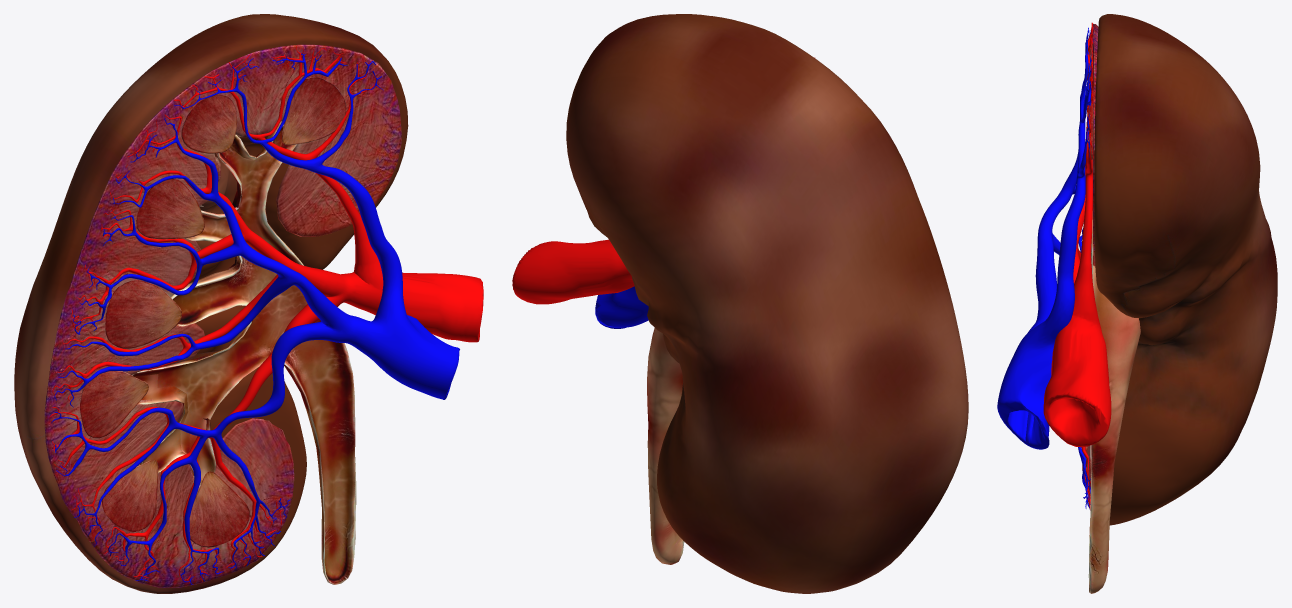
The model's file is kidneys.glb.
The picture shows the model from 3 angles, left to right: view 1: azimuth 30°, elevation 25°; view 2: azimuth 150°, elevation 25°; view 3: azimuth 270°, elevation 25°; orthographic projection. The views are drawn at different scales.
Visible parts, largest first — view 1: Maya_2018:Cortex_Maya_2018:Cortex_Diffuse_0, Maya_2018:Capsule_Maya_2018:Capsule2_0, Maya_2018:Ureter_Maya_2018:Renal___Ureter_Diffuse_0, Maya_2018:BLUE_Maya_2018:blue_0, Maya_2018:Medulla pyramid_Maya_2018:03 - Default_0, Maya_2018:RED_Maya_2018:red_0; view 2: Maya_2018:Capsule_Maya_2018:Capsule2_0, Maya_2018:RED_Maya_2018:red_0, Maya_2018:Ureter_Maya_2018:Renal___Ureter_Diffuse_0, Maya_2018:BLUE_Maya_2018:blue_0; view 3: Maya_2018:Capsule_Maya_2018:Capsule2_0, Maya_2018:BLUE_Maya_2018:blue_0, Maya_2018:RED_Maya_2018:red_0, Maya_2018:Ureter_Maya_2018:Renal___Ureter_Diffuse_0, Maya_2018:Cortex_Maya_2018:Cortex_Diffuse_0.
Boxes of the visible parts, x1=… form: Maya_2018:Cortex_Maya_2018:Cortex_Diffuse_0: x1=44, y1=44, x2=401, y2=587; Maya_2018:Capsule_Maya_2018:Capsule2_0: x1=14, y1=14, x2=408, y2=593; Maya_2018:Ureter_Maya_2018:Renal___Ureter_Diffuse_0: x1=132, y1=121, x2=356, y2=584; Maya_2018:BLUE_Maya_2018:blue_0: x1=51, y1=53, x2=459, y2=584; Maya_2018:Medulla pyramid_Maya_2018:03 - Default_0: x1=80, y1=76, x2=346, y2=547; Maya_2018:RED_Maya_2018:red_0: x1=49, y1=46, x2=483, y2=583; Maya_2018:Capsule_Maya_2018:Capsule2_0: x1=566, y1=14, x2=968, y2=593; Maya_2018:RED_Maya_2018:red_0: x1=512, y1=57, x2=814, y2=304; Maya_2018:Ureter_Maya_2018:Renal___Ureter_Diffuse_0: x1=647, y1=328, x2=684, y2=564; Maya_2018:BLUE_Maya_2018:blue_0: x1=595, y1=286, x2=648, y2=328; Maya_2018:Capsule_Maya_2018:Capsule2_0: x1=1094, y1=14, x2=1277, y2=525; Maya_2018:BLUE_Maya_2018:blue_0: x1=997, y1=27, x2=1092, y2=509; Maya_2018:RED_Maya_2018:red_0: x1=1043, y1=22, x2=1111, y2=509; Maya_2018:Ureter_Maya_2018:Renal___Ureter_Diffuse_0: x1=1088, y1=211, x2=1140, y2=593; Maya_2018:Cortex_Maya_2018:Cortex_Diffuse_0: x1=1086, y1=24, x2=1098, y2=503.
Size of the model in its own units: 0.5033 by 0.6 by 0.2901.
6 materials, 4 textured.
